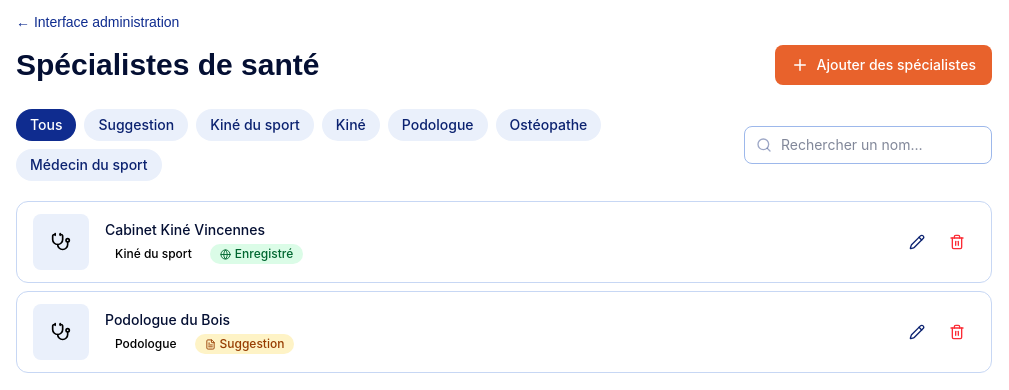
Test: GestionSpecialistes › filtre par recherche et par onglet
The image size is (1009, 390).
Check: the text "Cabinet Kiné Vincennes" is shown, box 105,221 -> 265,238
Type "podo" into the search field with placeholder "Rechercher un nom…" at point(868, 145), box 744,126 -> 992,164
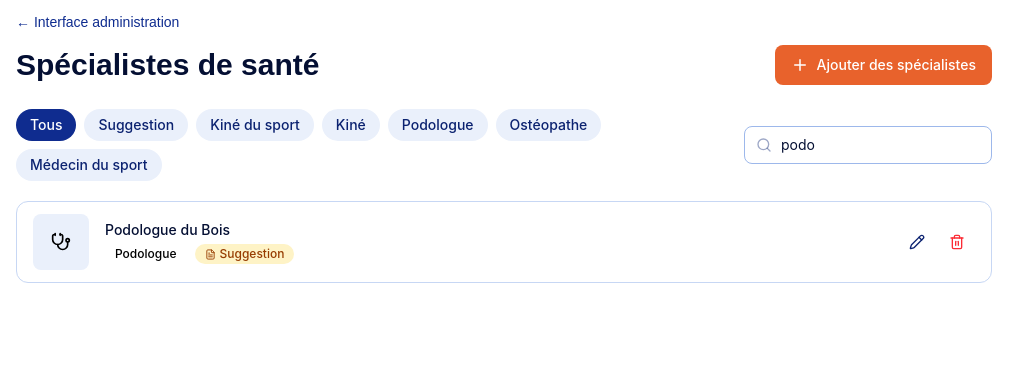
Check: the text "Podologue du Bois" is shown, box 105,221 -> 230,238
Check: the text "Cabinet Kiné Vincennes" is gone
Clear the search field with placeholder "Rechercher un nom…" at point(868, 145), box 744,126 -> 992,164
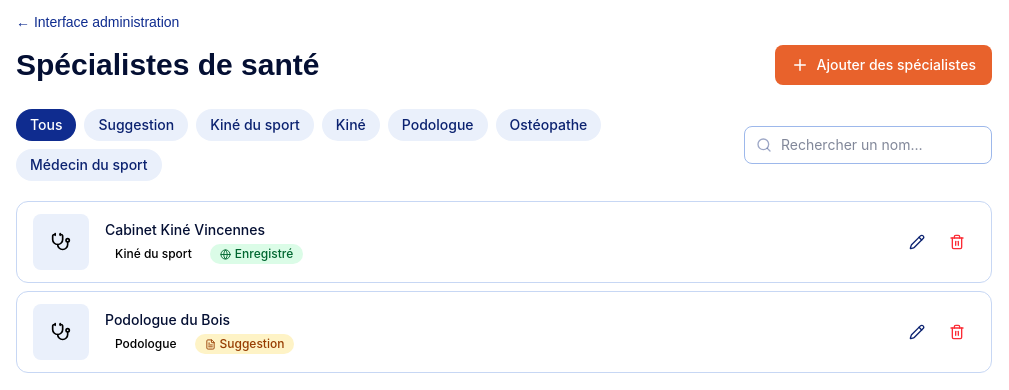
Click the button "Kiné du sport" at point(255, 125), box 196,109 -> 314,141
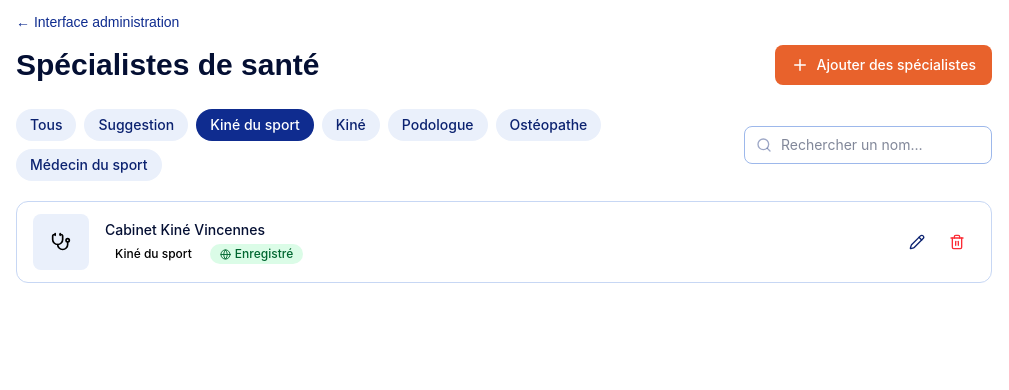
Check: the text "Cabinet Kiné Vincennes" is shown, box 105,221 -> 265,238
Check: the text "Podologue du Bois" is gone
